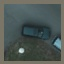car: (20, 23, 52, 41)
